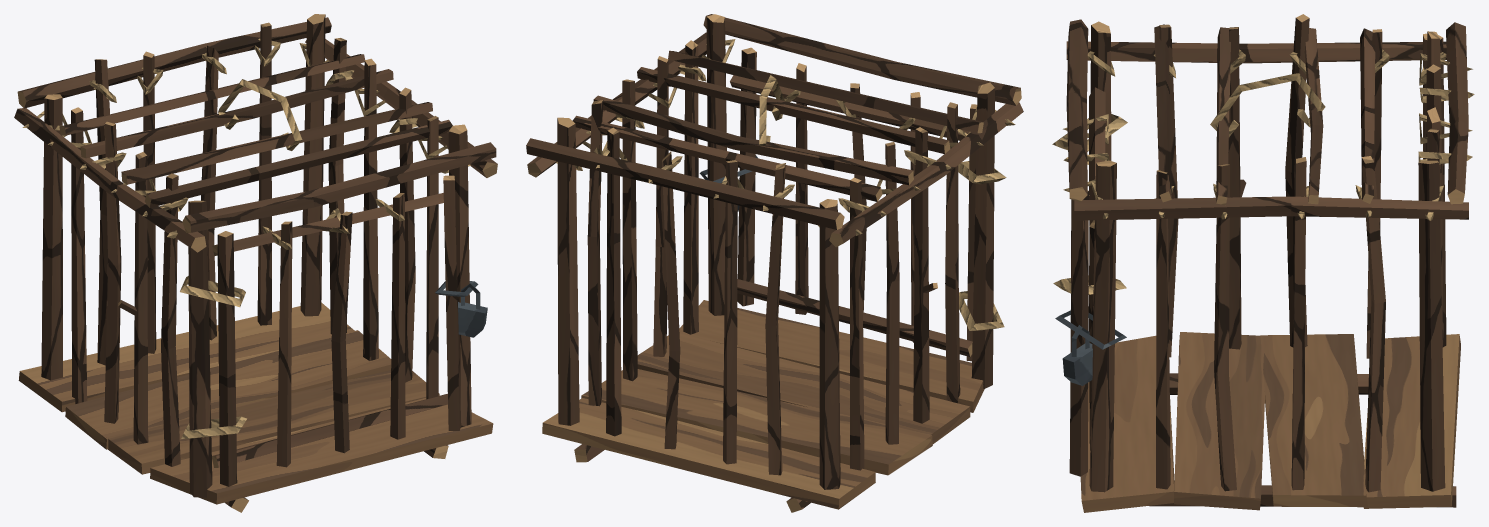
Rendered from SM_SmallCage.fbx.
3 renders of one model, left to right at view 1: azimuth 30°, elevation 25°; view 2: azimuth 150°, elevation 25°; view 3: azimuth 270°, elevation 25°, orthographic. The views are drawn at different scales.
Parts seen in each view (by area): view 1: SM_SmallCage; view 2: SM_SmallCage; view 3: SM_SmallCage.
Boxes of the visible parts, x1=… form: SM_SmallCage: x1=14, y1=14, x2=497, y2=512; SM_SmallCage: x1=526, y1=14, x2=1023, y2=512; SM_SmallCage: x1=1052, y1=14, x2=1474, y2=512.
Bounding box in the file's own units: 0.9577 × 0.9468 × 0.965.
